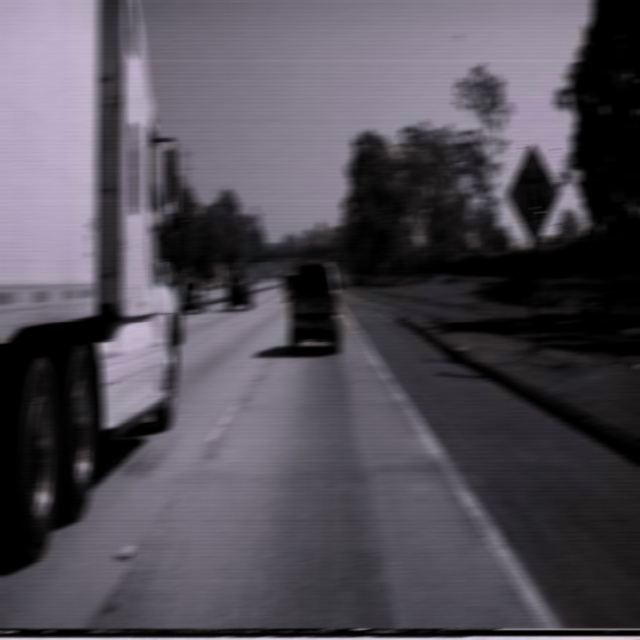addedLane: (506, 143, 559, 247)
